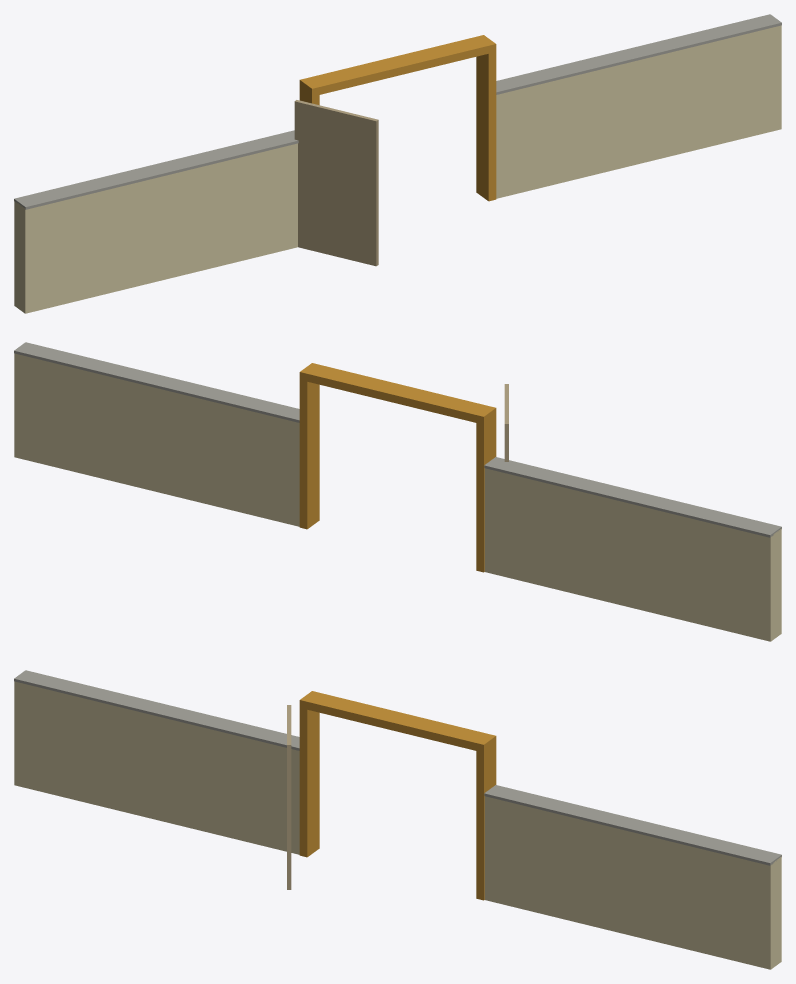
Rendered from casino_door.glb.
3 views of the same model, one above another, from view 1: azimuth 30°, elevation 25°; view 2: azimuth 150°, elevation 25°; view 3: azimuth 330°, elevation 25° (orthographic).
Visible parts, largest first — view 1: dry_1, dry_-1, leaf, cut_1, cut_-1, head, jamb_r; view 2: dry_-1, dry_1, cut_-1, cut_1, head, jamb_r, jamb_l; view 3: dry_1, dry_-1, cut_1, cut_-1, head, jamb_l, jamb_r, leaf.
Boxes of the visible parts, x1=… form: dry_1: x1=496, y1=25, x2=781, y2=198; dry_-1: x1=14, y1=143, x2=297, y2=313; leaf: x1=294, y1=100, x2=378, y2=266; cut_1: x1=496, y1=14, x2=781, y2=94; cut_-1: x1=14, y1=130, x2=298, y2=209; head: x1=299, y1=35, x2=496, y2=96; jamb_r: x1=476, y1=48, x2=496, y2=201; dry_-1: x1=484, y1=468, x2=781, y2=641; dry_1: x1=14, y1=353, x2=299, y2=526; cut_-1: x1=484, y1=457, x2=781, y2=537; cut_1: x1=14, y1=342, x2=299, y2=422; head: x1=299, y1=363, x2=496, y2=424; jamb_r: x1=299, y1=376, x2=319, y2=529; jamb_l: x1=476, y1=412, x2=496, y2=572; dry_1: x1=484, y1=796, x2=781, y2=969; dry_-1: x1=14, y1=681, x2=299, y2=854; cut_1: x1=484, y1=785, x2=781, y2=865; cut_-1: x1=14, y1=670, x2=299, y2=750; head: x1=299, y1=691, x2=496, y2=752; jamb_l: x1=299, y1=704, x2=319, y2=857; jamb_r: x1=476, y1=740, x2=496, y2=900; leaf: x1=287, y1=705, x2=291, y2=889.
Size of the model in its own units: 12 by 2.36 by 1.4.
